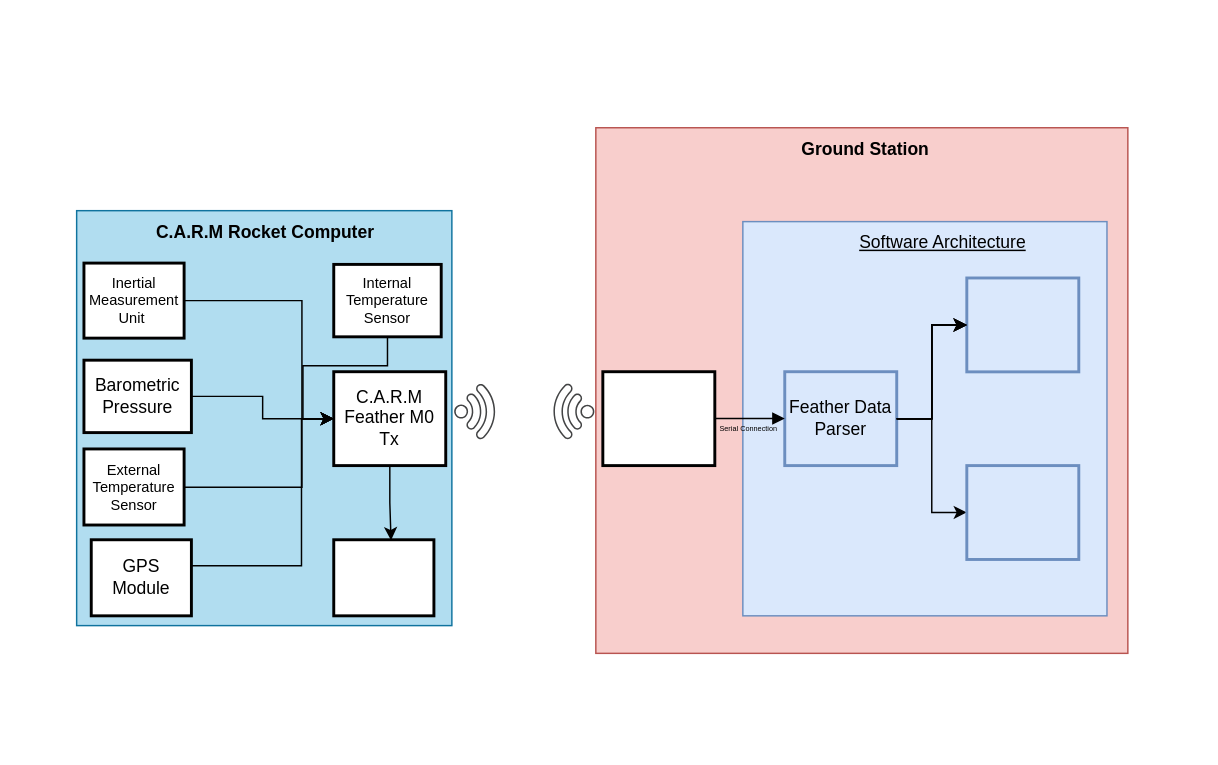
The diagram is 1218 pixels wide and 765 high, and some of its shapes have lost their labels. The shapes that lost their labels are listed below. From the top down, each one's box as (x1, y1, x2, y2) in pixels, then its label:
(965, 276, 1080, 373): Dash App
(601, 370, 716, 466): Ground Station Feather M0 Rx
(965, 463, 1080, 560): Database
(332, 538, 435, 617): SD Card
